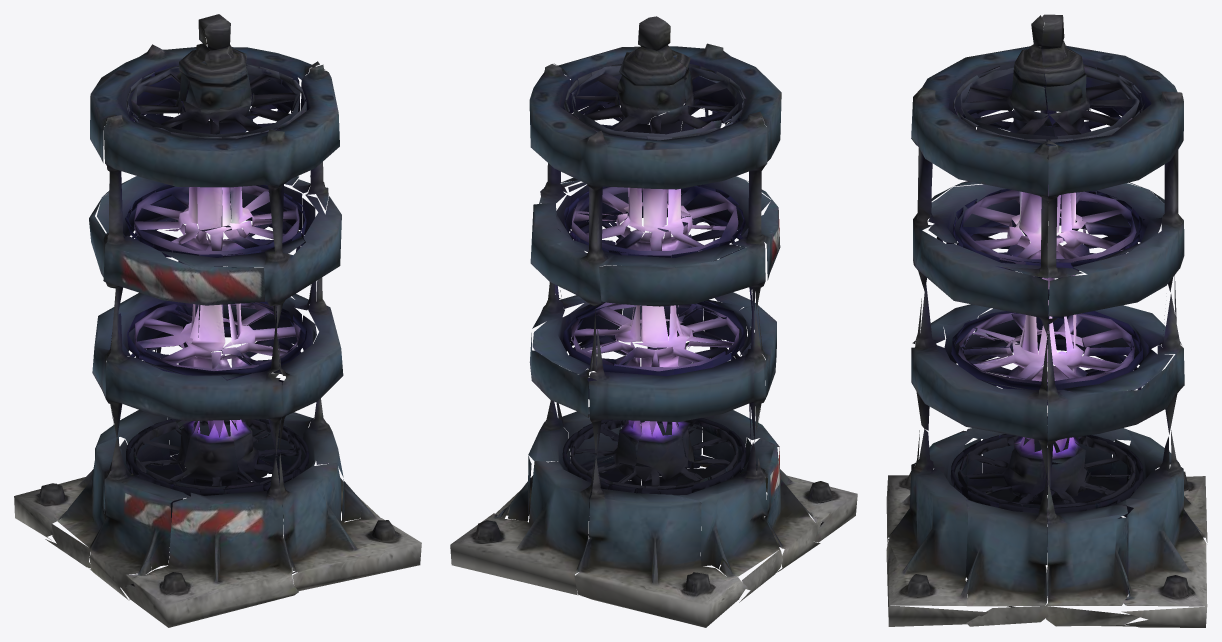
The model's file is tank_glow.glb.
3 views of the same model, side by side, from view 1: azimuth 30°, elevation 25°; view 2: azimuth 150°, elevation 25°; view 3: azimuth 270°, elevation 25° (orthographic). The views are drawn at different scales.
Visible parts, largest first — view 1: Mesh; view 2: Mesh; view 3: Mesh.
Part boxes in pixels (left/top/right/bottom): Mesh: left=14, top=14, right=421, bottom=627; Mesh: left=450, top=16, right=857, bottom=627; Mesh: left=886, top=14, right=1207, bottom=627.
Size of the model in its own units: 1.53 by 3 by 1.58.
Materials: 1 (1 with a texture image).
